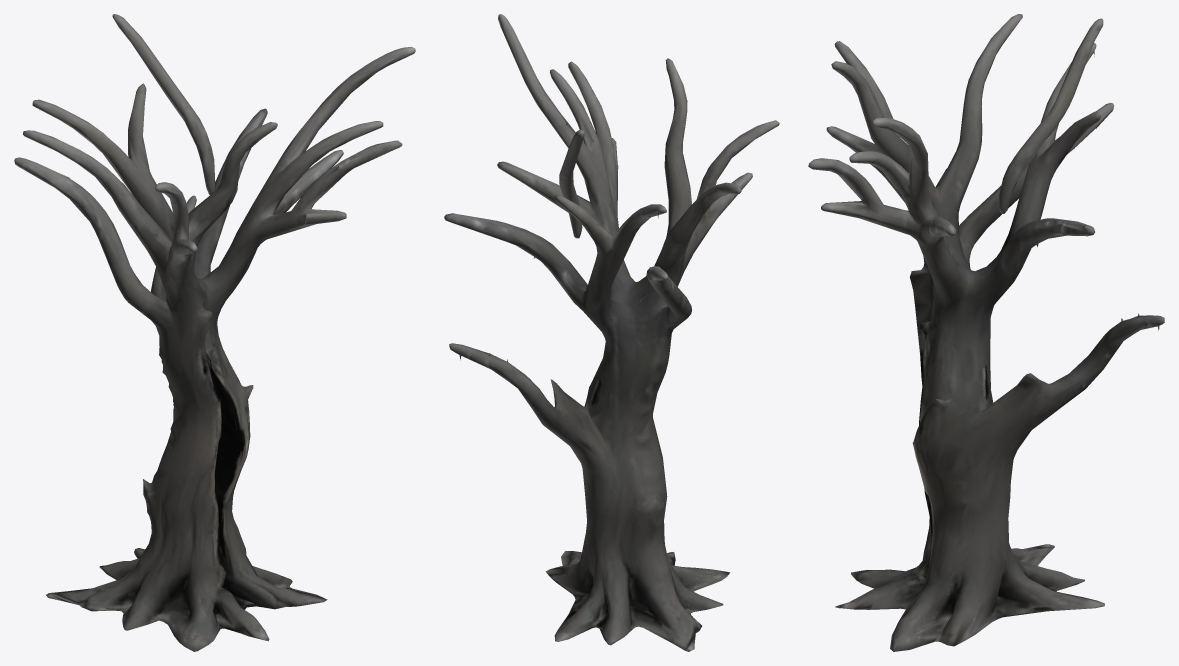
Rendered from willow_clean.opt.glb.
3 renders of one model, left to right at view 1: azimuth 30°, elevation 25°; view 2: azimuth 150°, elevation 25°; view 3: azimuth 270°, elevation 25°, orthographic. The views are drawn at different scales.
Parts seen in each view (by area): view 1: node_0; view 2: node_0; view 3: node_0.
Boxes of the visible parts, bbox=[...] form: node_0: bbox=[14, 14, 415, 651]; node_0: bbox=[444, 14, 779, 651]; node_0: bbox=[808, 14, 1164, 651].
Bounding box in the file's own units: 0.5345 × 0.8552 × 0.4813.
1 material, 1 textured.
